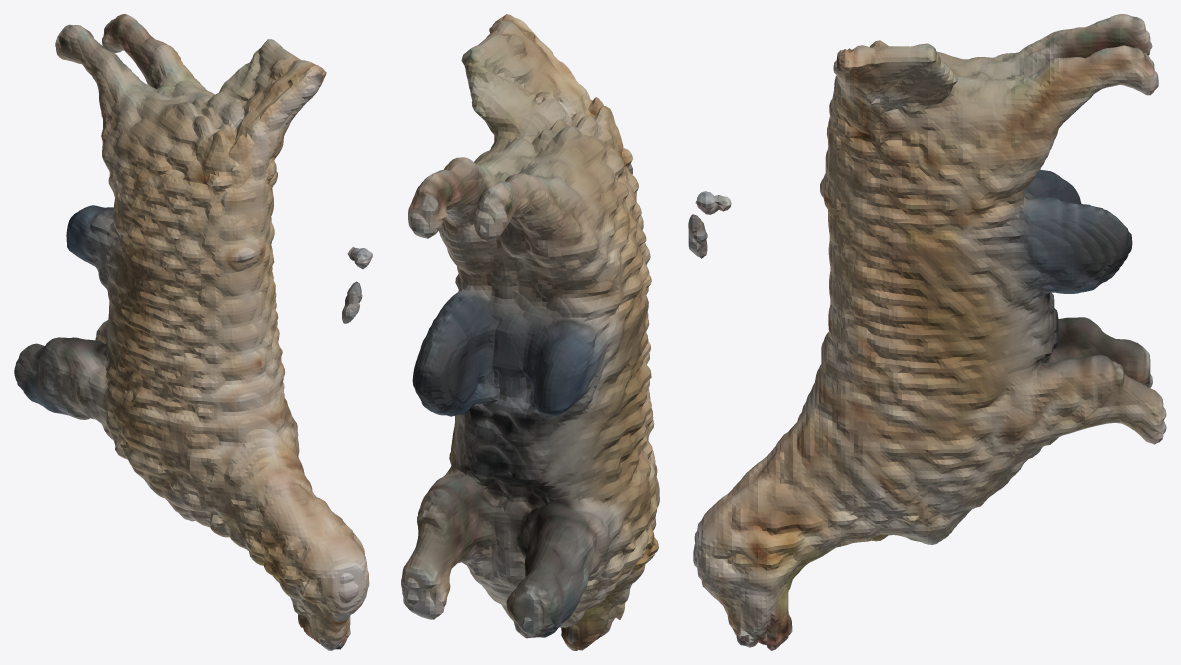
3 views of the same model, side by side, from view 1: azimuth 30°, elevation 25°; view 2: azimuth 150°, elevation 25°; view 3: azimuth 270°, elevation 25° (orthographic). The views are drawn at different scales.
Visible parts, largest first — view 1: world; view 2: world; view 3: world.
Part boxes in pixels (box(x1,y1,x2,y2)): world: box(14, 14, 372, 650); world: box(401, 14, 659, 650); world: box(688, 14, 1166, 650).
Bounding box in the file's own units: 0.3669 × 1.06 × 0.7485.
